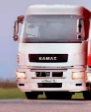truck: (10, 4, 91, 100)
